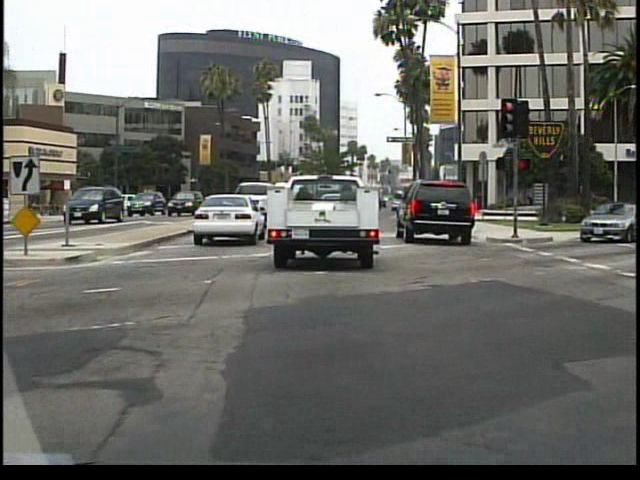person: (95, 189, 113, 222)
